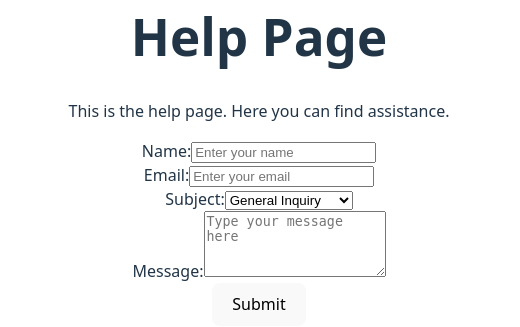
Test: Help Component › removes the email error message when a valid email is entered
This screenshot has width=520, height=327.
Type "invalid-email" into the field labelled "Email:" at (282, 176), box [189, 166, 374, 187]
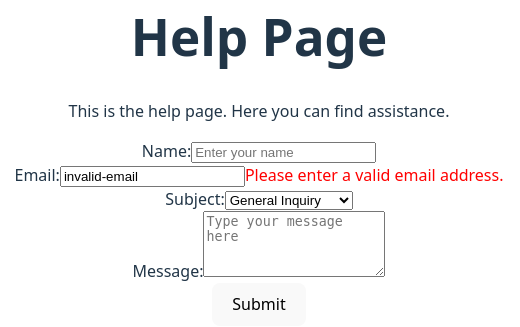
Replace the text in the field labelled "Email:" with "valid@example.com" at (152, 176), box [60, 166, 245, 187]
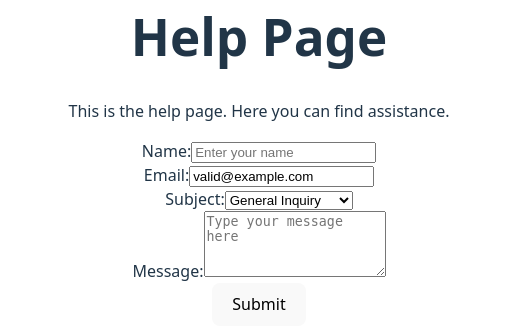
Expected: the text "Please enter a valid email address." is gone
